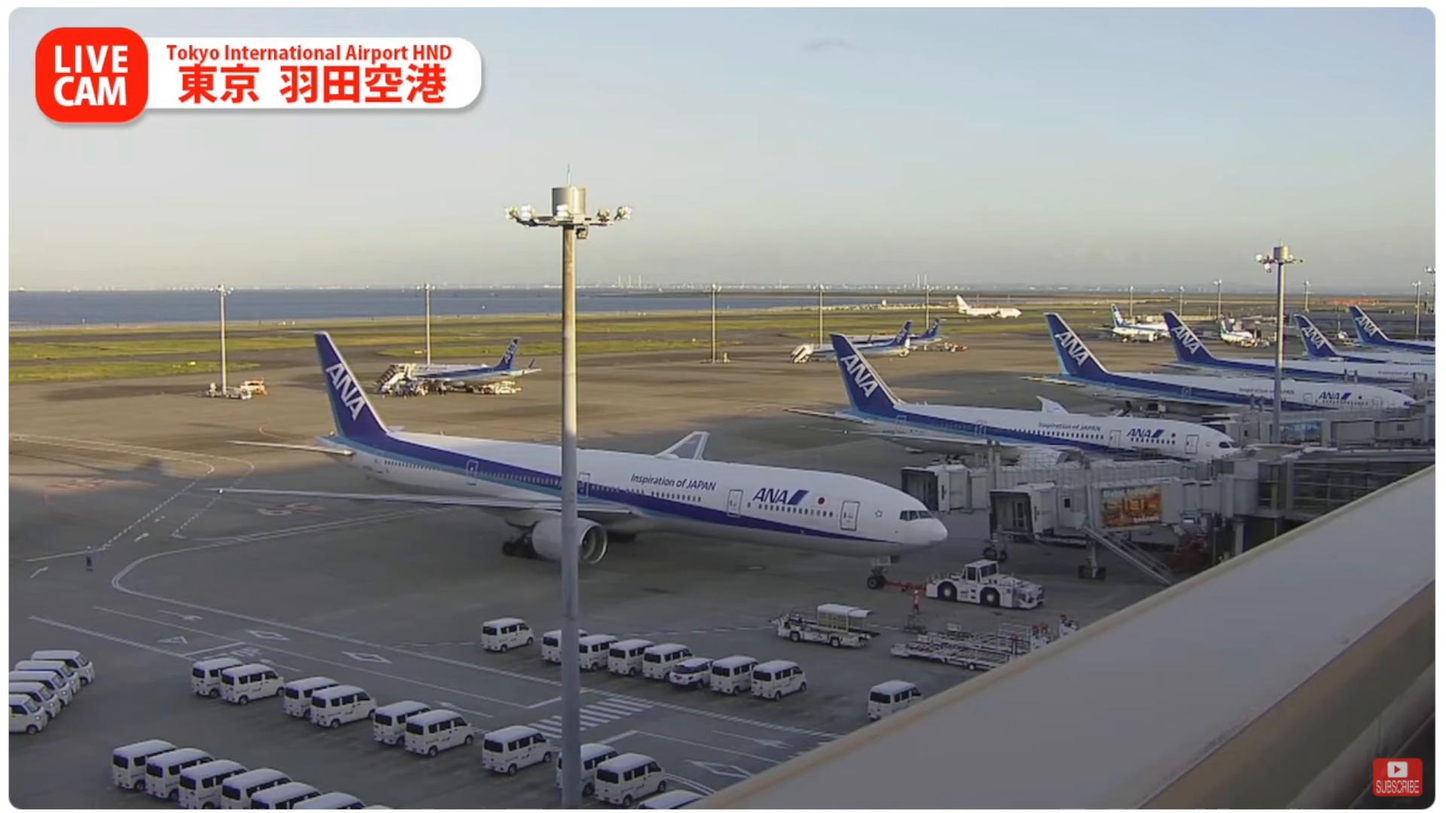APS: (926, 557, 1046, 611)
Aerobridge: (992, 474, 1253, 544), (901, 462, 1214, 514)
Airplane: (197, 330, 952, 565)
JCPL: (918, 617, 1080, 654), (891, 641, 1014, 668)
Skyloader: (769, 599, 883, 648)
Window: (1253, 443, 1435, 520)
